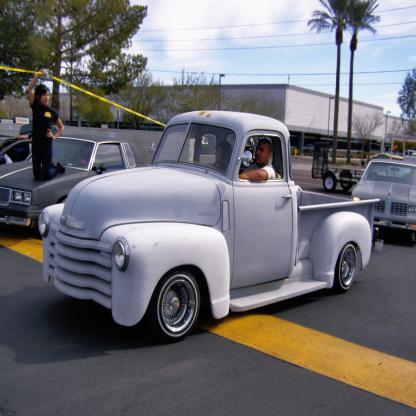Truck: (38, 110, 380, 343)
